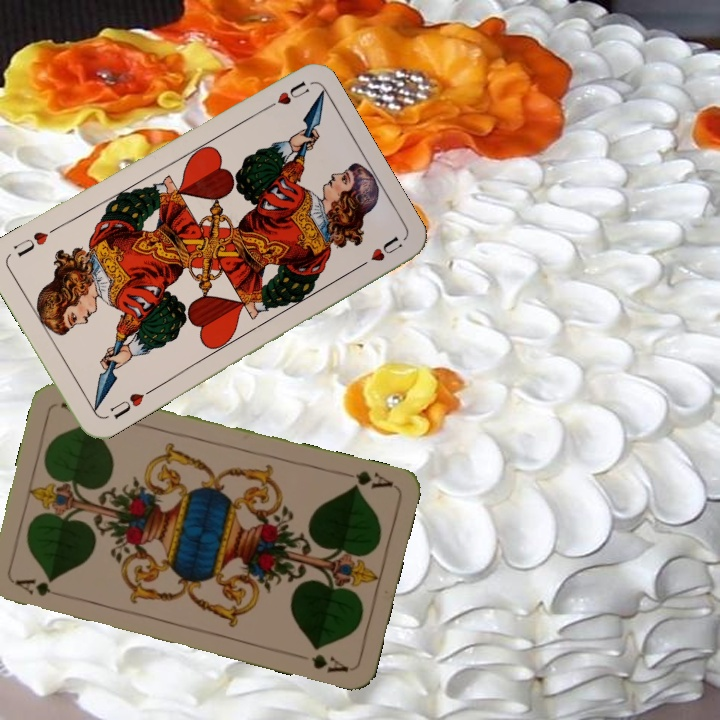GA: (338, 466, 396, 492), (11, 574, 53, 599)
HU: (257, 77, 312, 115), (105, 385, 155, 422)
